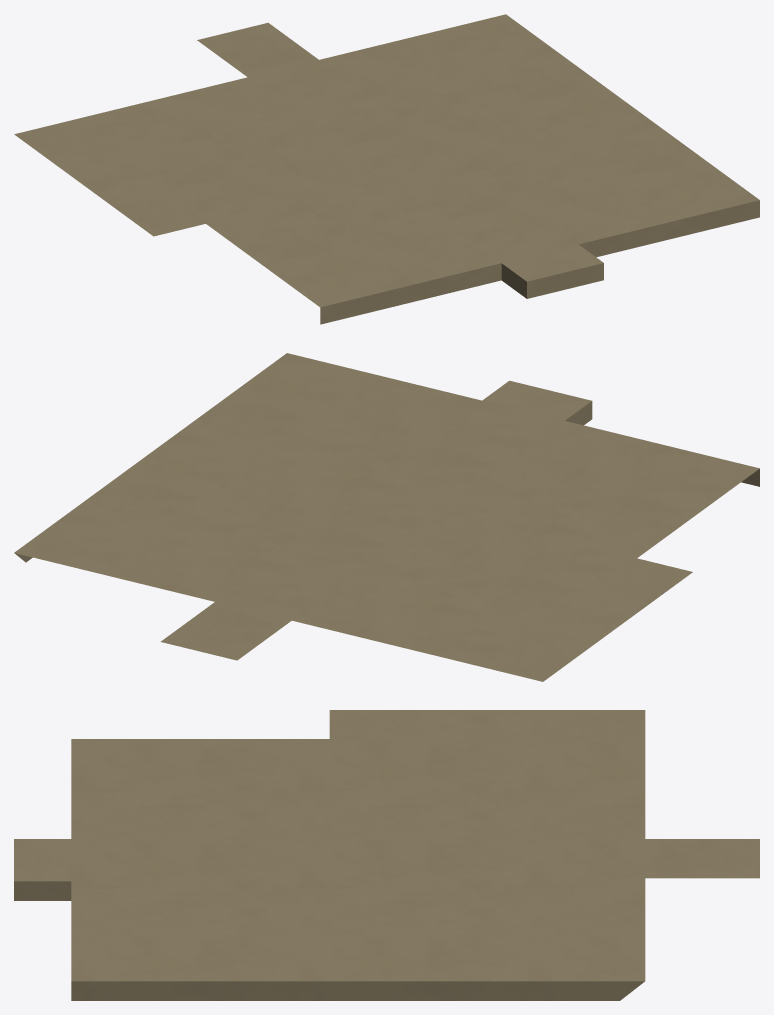
Rendered from MainRoom Floor Lower.fbx.
The picture shows the model from 3 angles, top to bottom: view 1: azimuth 30°, elevation 25°; view 2: azimuth 150°, elevation 25°; view 3: azimuth 270°, elevation 25°; orthographic projection. The views are drawn at different scales.
Parts seen in each view (by area): view 1: MainRoom Floor Lower; view 2: MainRoom Floor Lower; view 3: MainRoom Floor Lower.
Boxes of the visible parts, x1,y1,x2,y2 form: MainRoom Floor Lower: [14, 14, 759, 324]; MainRoom Floor Lower: [14, 353, 759, 681]; MainRoom Floor Lower: [14, 710, 759, 1000].
Bounding box in the file's own units: 4475 × 150 × 5200.
